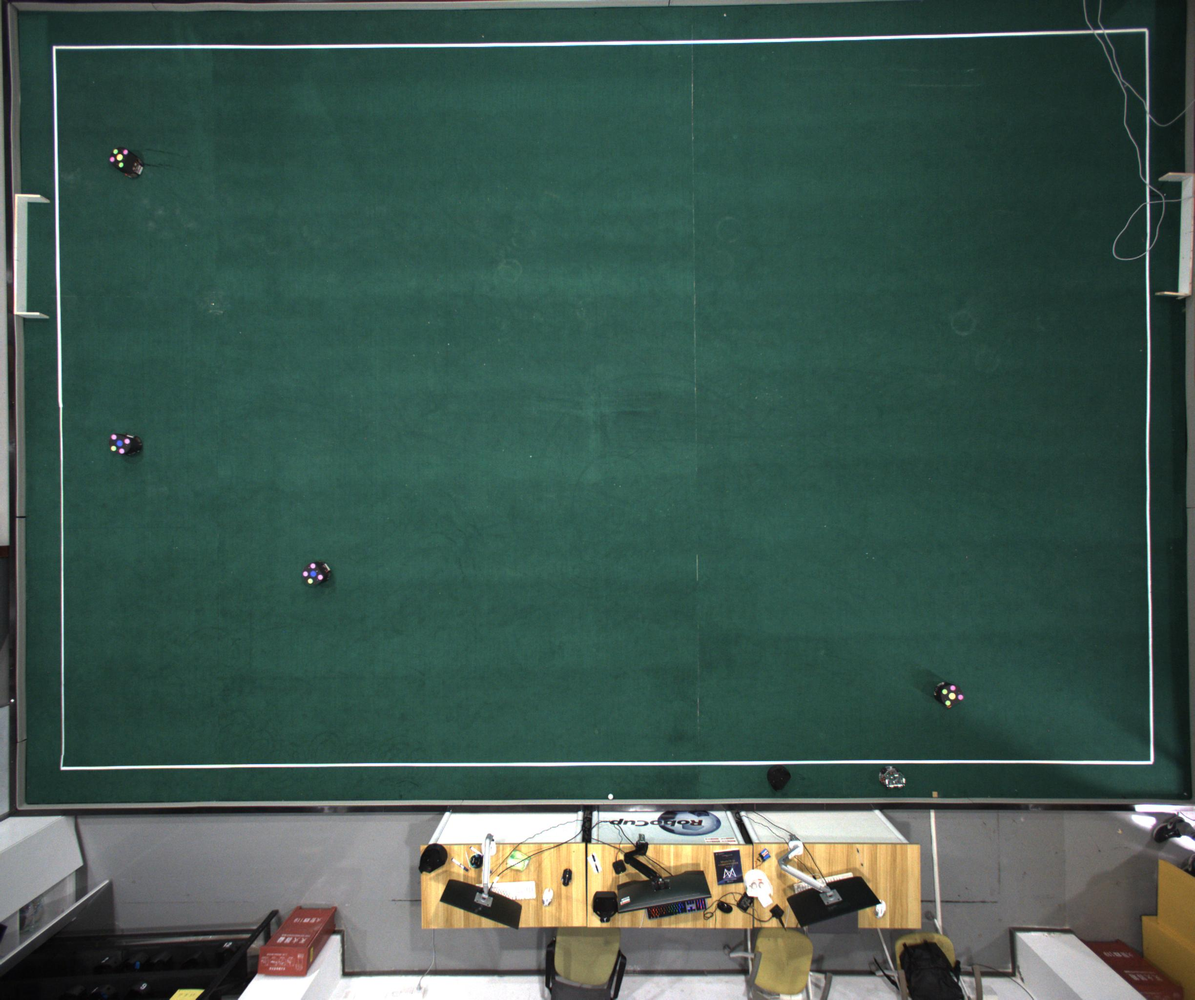blue_bot: (302, 562, 325, 585), (108, 433, 132, 455)
yellow_bot: (941, 685, 964, 706), (110, 147, 129, 169)
